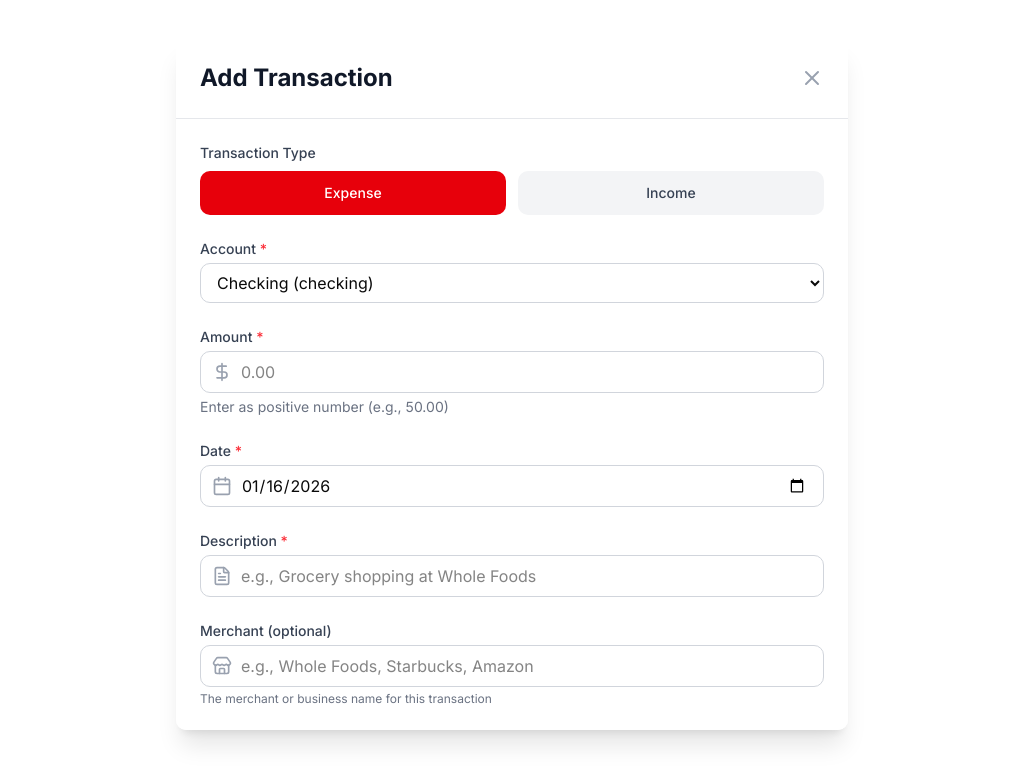
it: ManualTransactionForm - Goal Selection › shows goal dropdown only for income transactions
expect the field labelled "goal" is not shown: met
Note: Switch to income (using button role, not label)
Click the button "Income" at (671, 193), box [518, 171, 824, 215]
(page scrolled)
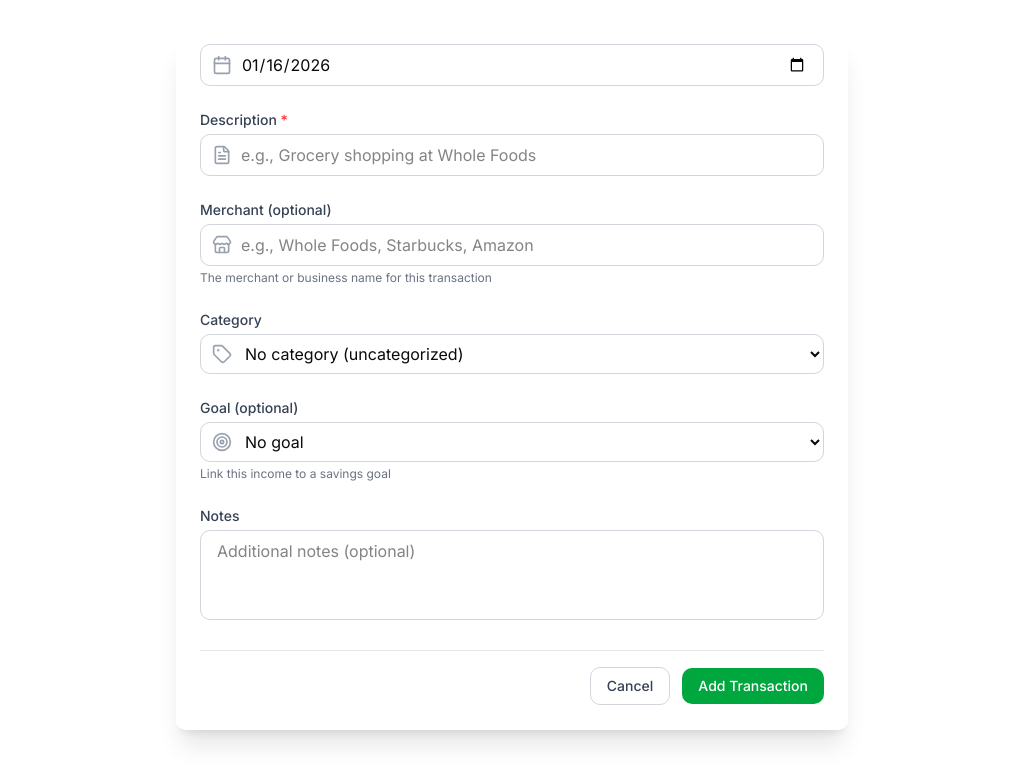
expect the dropdown labelled "Goal (optional)" is shown: met, box [200, 422, 824, 462]
